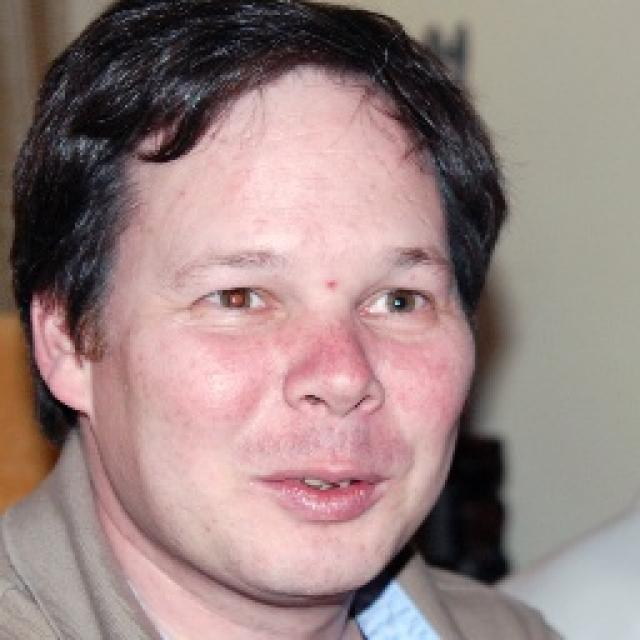earlobe: (48, 357, 90, 414)
eye: (198, 282, 274, 314), (360, 290, 436, 320)
nose: (288, 395, 383, 449)
wholeear: (30, 284, 91, 413)
